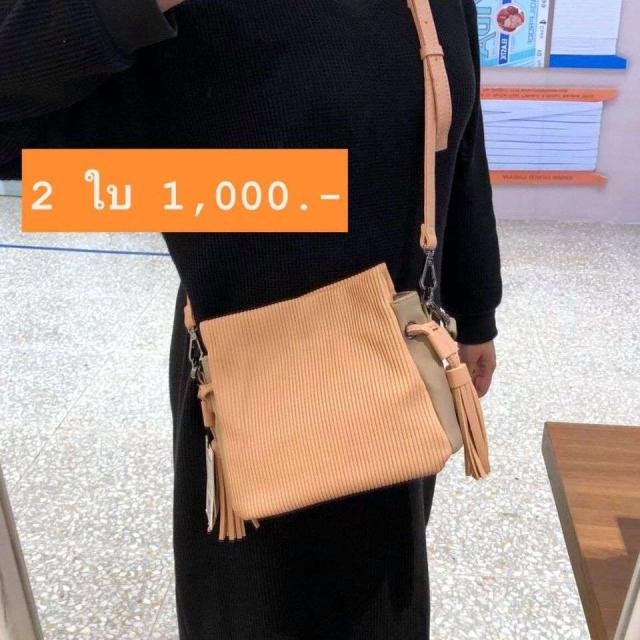Handbag: (188, 268, 492, 538)
